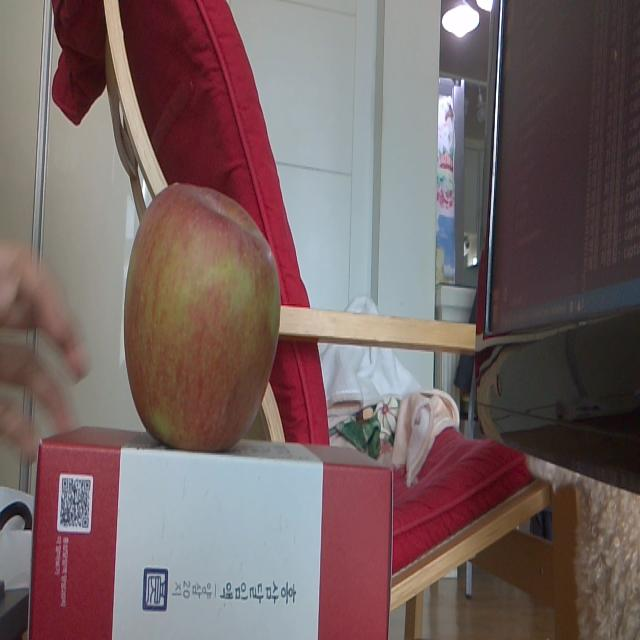apple: (123, 182, 281, 453)
